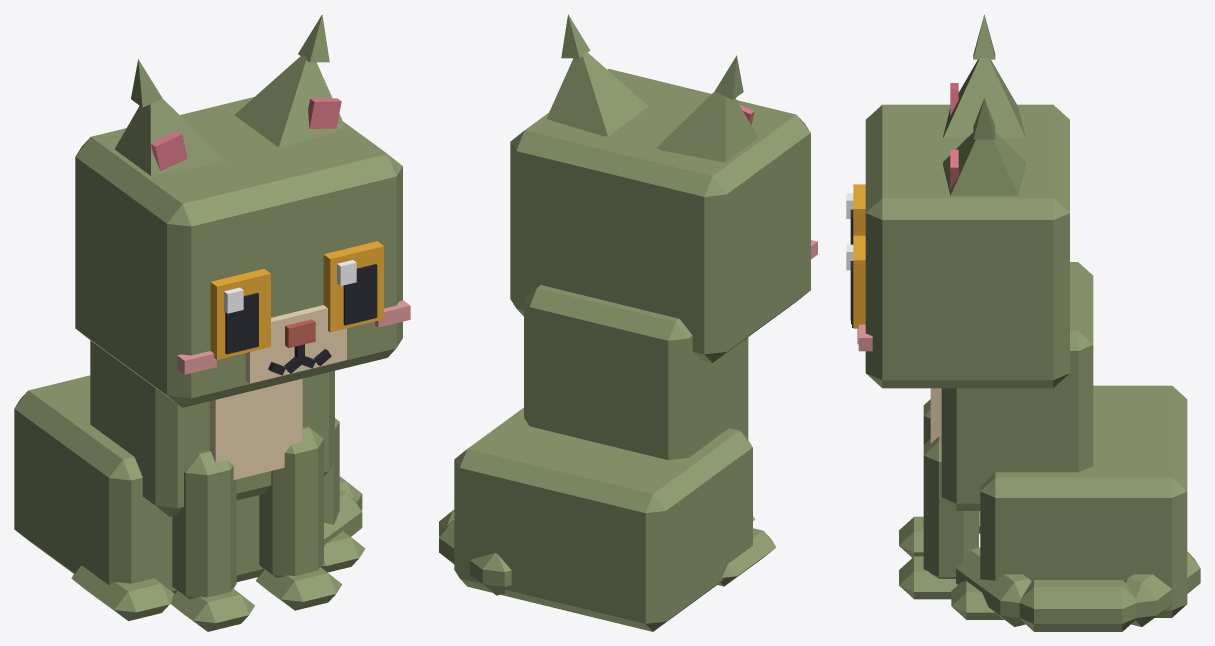
The model's file is CatCafe_Cat_Moss_Sit.glb.
3 views of the same model, side by side, from view 1: azimuth 30°, elevation 25°; view 2: azimuth 150°, elevation 25°; view 3: azimuth 270°, elevation 25° (orthographic). The views are drawn at different scales.
Parts seen in each view (by area): view 1: CatCafe_Cat_Moss_Sit_Head, CatCafe_Cat_Moss_Sit_Body, CatCafe_Cat_Moss_Sit_LegF2, CatCafe_Cat_Moss_Sit_LegF1, CatCafe_Cat_Moss_Sit_EarL, CatCafe_Cat_Moss_Sit_EarR, CatCafe_Cat_Moss_Sit_Eye2, CatCafe_Cat_Moss_Sit_Eye1, CatCafe_Cat_Moss_Sit_Tail; view 2: CatCafe_Cat_Moss_Sit_Body, CatCafe_Cat_Moss_Sit_Head, CatCafe_Cat_Moss_Sit_EarL, CatCafe_Cat_Moss_Sit_EarR, CatCafe_Cat_Moss_Sit_Tail; view 3: CatCafe_Cat_Moss_Sit_Head, CatCafe_Cat_Moss_Sit_Body, CatCafe_Cat_Moss_Sit_Tail, CatCafe_Cat_Moss_Sit_LegF1, CatCafe_Cat_Moss_Sit_EarL, CatCafe_Cat_Moss_Sit_EarR, CatCafe_Cat_Moss_Sit_Eye1, CatCafe_Cat_Moss_Sit_LegF2, CatCafe_Cat_Moss_Sit_Eye2.
Boxes of the visible parts, x1,y1,x2,y2 form: CatCafe_Cat_Moss_Sit_Head: [75, 97, 410, 407]; CatCafe_Cat_Moss_Sit_Body: [14, 340, 365, 620]; CatCafe_Cat_Moss_Sit_LegF2: [170, 451, 254, 631]; CatCafe_Cat_Moss_Sit_LegF1: [256, 426, 341, 610]; CatCafe_Cat_Moss_Sit_EarL: [234, 14, 345, 147]; CatCafe_Cat_Moss_Sit_EarR: [114, 59, 225, 175]; CatCafe_Cat_Moss_Sit_Eye2: [210, 269, 270, 359]; CatCafe_Cat_Moss_Sit_Eye1: [323, 241, 383, 332]; CatCafe_Cat_Moss_Sit_Tail: [324, 476, 362, 546]; CatCafe_Cat_Moss_Sit_Body: [454, 285, 776, 631]; CatCafe_Cat_Moss_Sit_Head: [510, 69, 817, 362]; CatCafe_Cat_Moss_Sit_EarL: [546, 14, 648, 136]; CatCafe_Cat_Moss_Sit_EarR: [656, 55, 758, 162]; CatCafe_Cat_Moss_Sit_Tail: [439, 509, 511, 595]; CatCafe_Cat_Moss_Sit_Head: [851, 104, 1069, 388]; CatCafe_Cat_Moss_Sit_Body: [930, 262, 1187, 619]; CatCafe_Cat_Moss_Sit_Tail: [956, 547, 1200, 631]; CatCafe_Cat_Moss_Sit_LegF1: [899, 436, 978, 599]; CatCafe_Cat_Moss_Sit_EarL: [943, 98, 1025, 195]; CatCafe_Cat_Moss_Sit_EarR: [943, 14, 1025, 138]; CatCafe_Cat_Moss_Sit_Eye1: [846, 235, 865, 328]; CatCafe_Cat_Moss_Sit_LegF2: [899, 399, 930, 557]; CatCafe_Cat_Moss_Sit_Eye2: [846, 184, 865, 244].
Bounding box in the file's own units: 1.05 × 1.96 × 1.22.
1 material, 1 textured.
